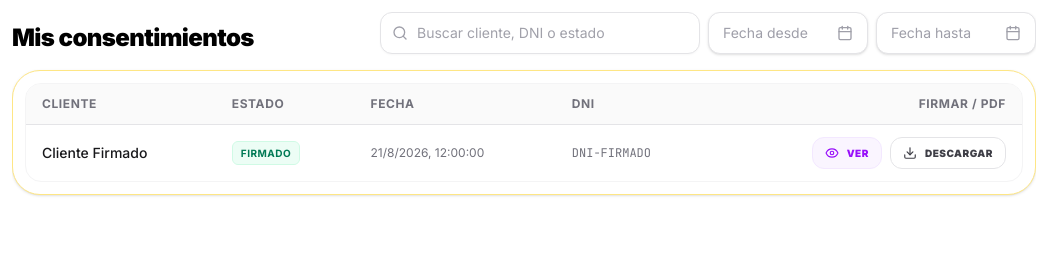
Scenario: ArtistConsents signed file actions › reports a signed URL failure without delivering the document
Click the button "Descargar": coordinates (948, 153) x1=890 y1=137 x2=1006 y2=169
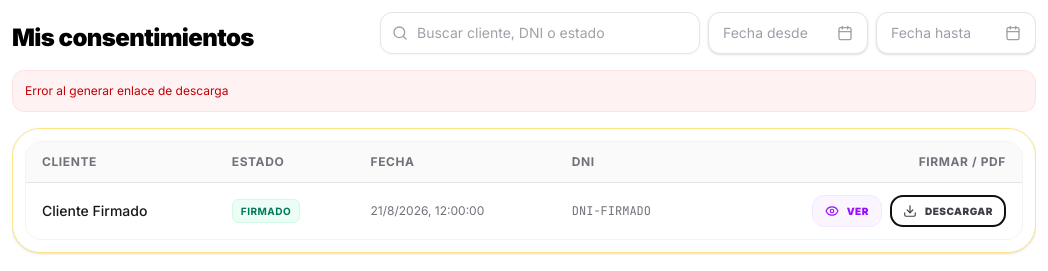
Expected: the text "Error al generar enlace de descarga" is shown, x1=12 y1=70 x2=1036 y2=112
